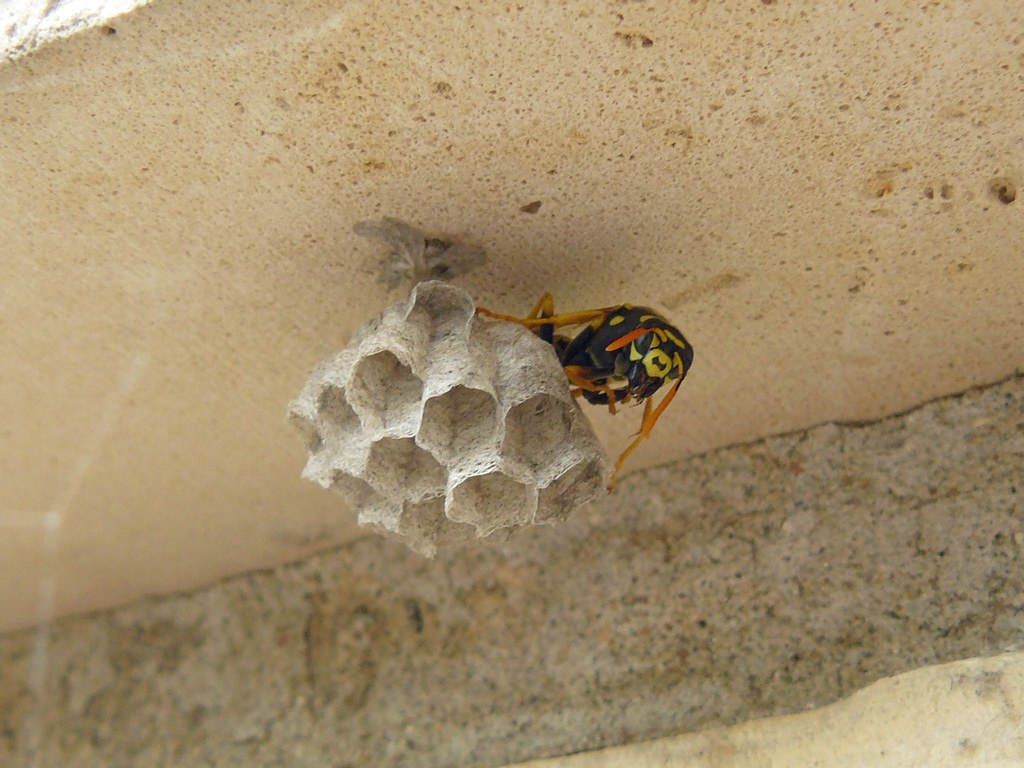insect: (290, 298, 611, 566), (472, 289, 698, 491)
